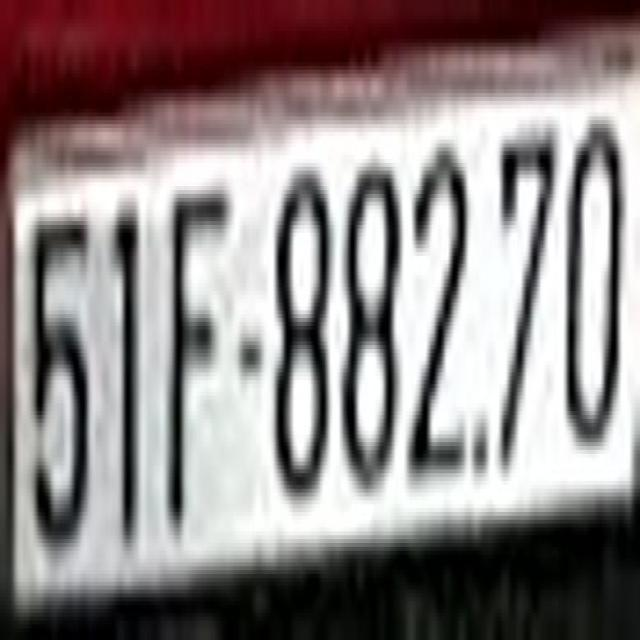0: (566, 116, 620, 458)
1: (110, 190, 143, 574)
2: (410, 136, 466, 488)
5: (32, 205, 90, 570)
7: (488, 116, 561, 481)
8: (273, 155, 332, 508), (344, 155, 397, 493)
F: (167, 170, 227, 532)
